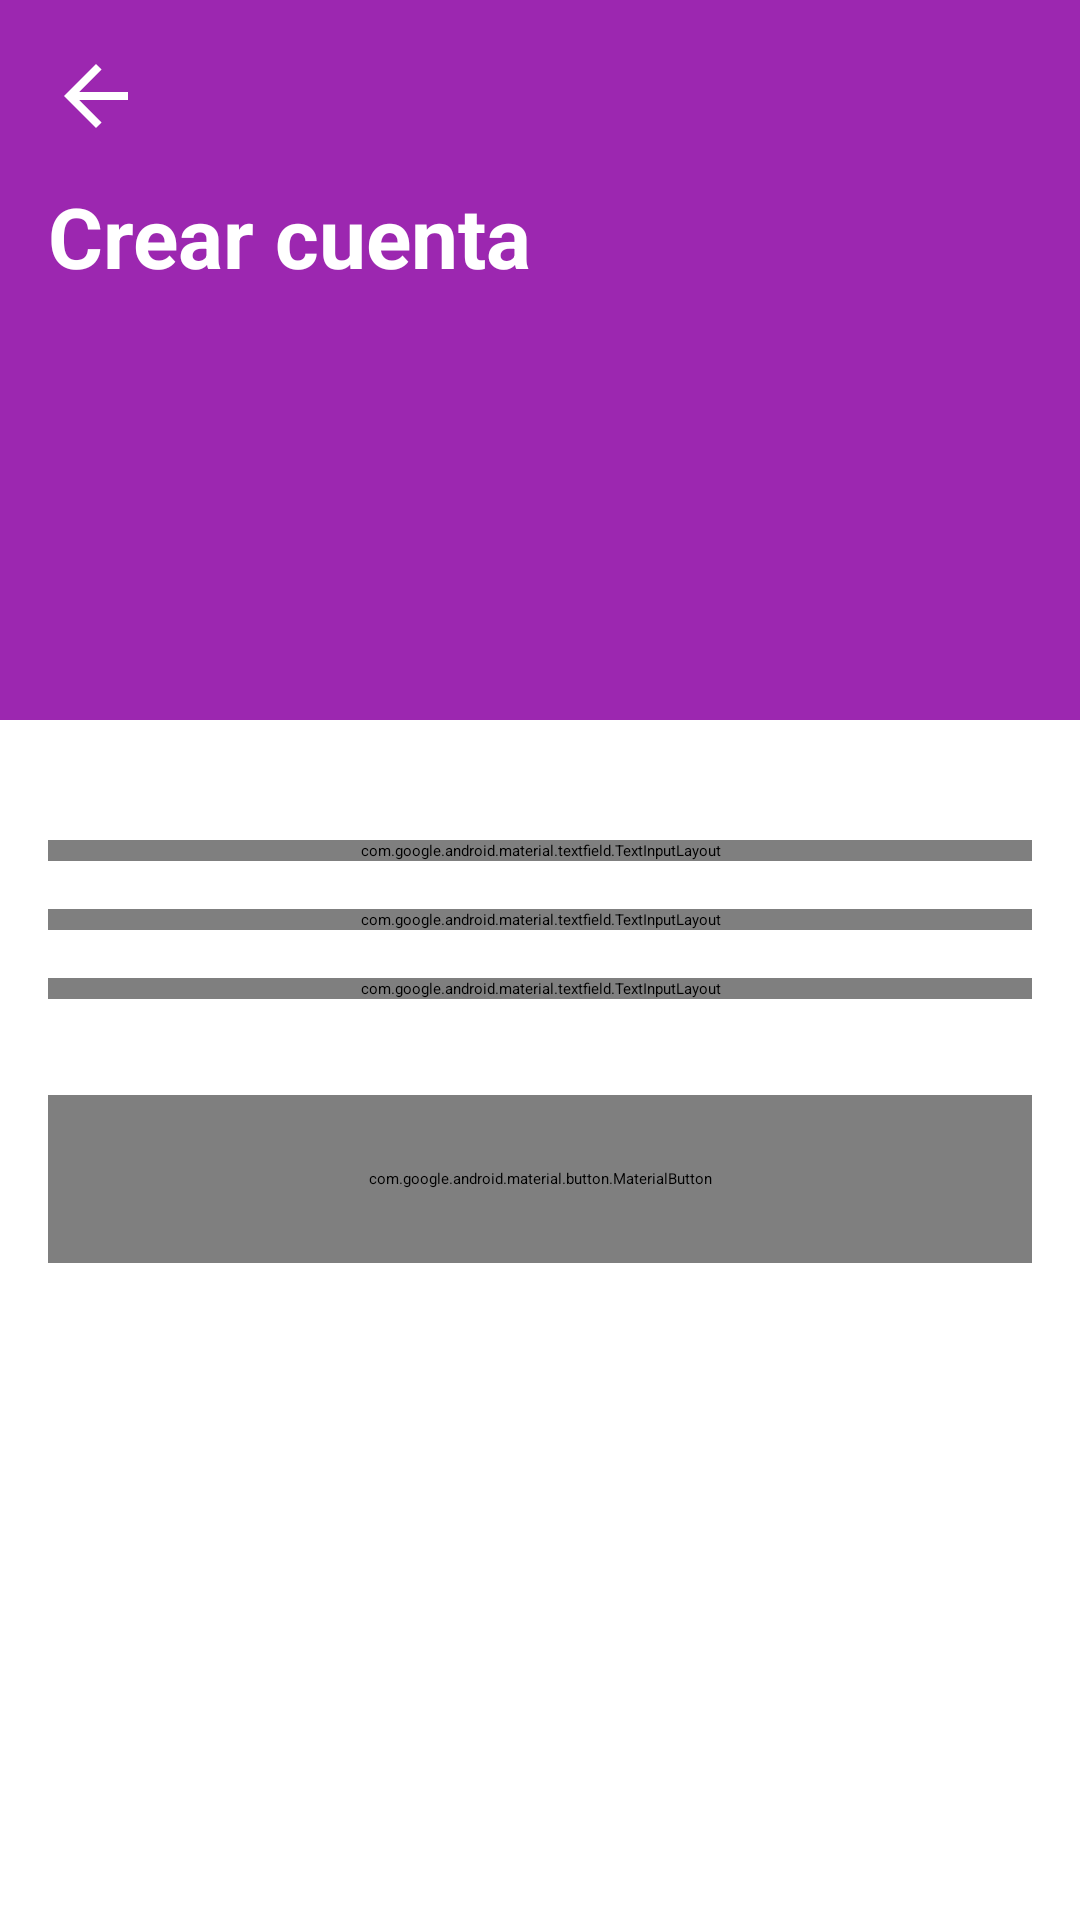

Icon click points for this 1080 x 1920 phone screenshot, format point (x, y):
ab back: point (96, 96)
